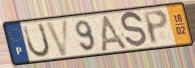9: (74, 18, 97, 53)
A: (98, 13, 130, 52)
P: (141, 9, 170, 47)
S: (120, 10, 148, 50)
U: (21, 21, 52, 59)
V: (44, 18, 71, 58)
